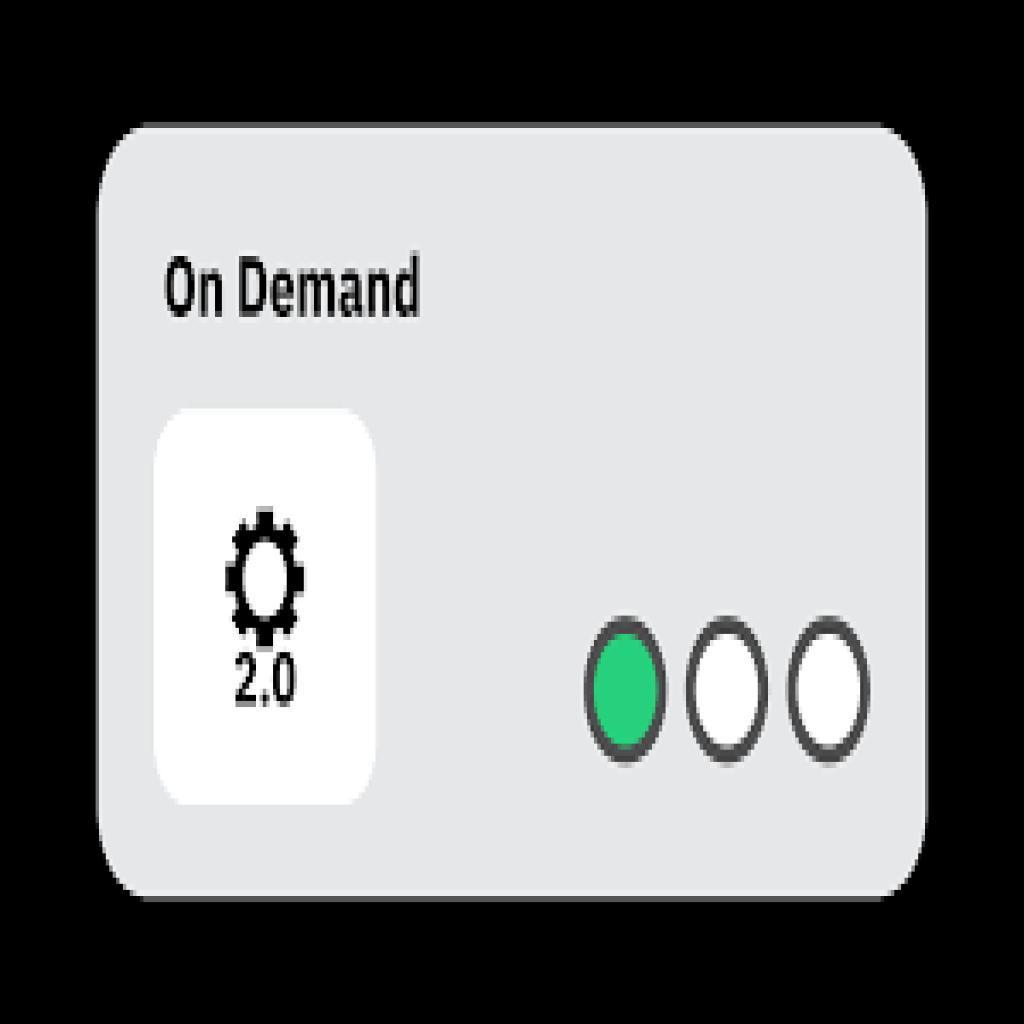radio: (577, 615, 671, 768), (785, 616, 875, 768), (684, 617, 770, 770)
